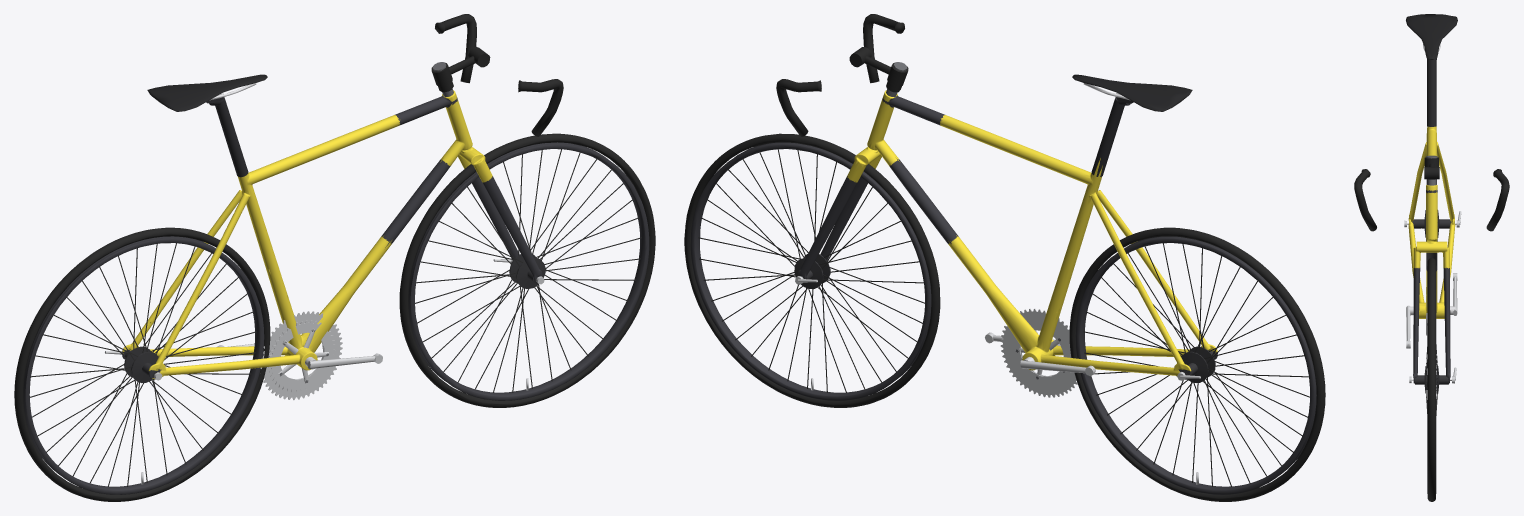
The model's file is bike_lite.glb.
3 renders of one model, left to right at view 1: azimuth 30°, elevation 25°; view 2: azimuth 150°, elevation 25°; view 3: azimuth 270°, elevation 25°, orthographic. The views are drawn at different scales.
Parts seen in each view (by area): view 1: dropbar, fork, saddle, tyre_front; view 2: dropbar, fork, saddle, tyre_front; view 3: fork, dropbar, tyre_front, saddle.
Boxes of the visible parts, x1,y1,x2,y2 form: dropbar: [30, 14, 641, 486]; fork: [122, 90, 542, 379]; saddle: [23, 74, 649, 494]; tyre_front: [14, 133, 655, 501]; dropbar: [698, 14, 1309, 486]; fork: [797, 90, 1217, 379]; saddle: [690, 74, 1316, 494]; tyre_front: [684, 133, 1325, 501]; fork: [1408, 126, 1455, 383]; dropbar: [1354, 44, 1509, 415]; tyre_front: [1427, 258, 1435, 501]; saddle: [1406, 14, 1457, 493].
Size of the model in its own units: 1.68 by 0.9885 by 0.4256.
4 materials, 4 textured.
